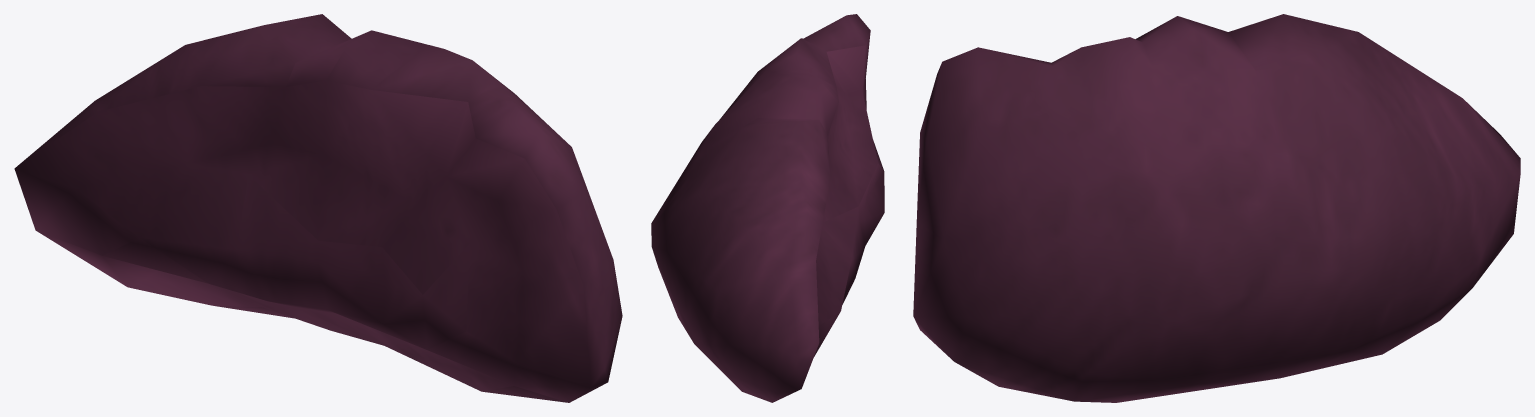
The model's file is TCA_Spleen.fbx.
3 renders of one model, left to right at view 1: azimuth 30°, elevation 25°; view 2: azimuth 150°, elevation 25°; view 3: azimuth 270°, elevation 25°, orthographic. The views are drawn at different scales.
Parts seen in each view (by area): view 1: Spleen; view 2: Spleen; view 3: Spleen.
Part boxes in pixels (left/top/right/bottom): Spleen: left=14, top=14, right=622, bottom=402; Spleen: left=651, top=14, right=884, bottom=402; Spleen: left=913, top=14, right=1520, bottom=402.
Bounding box in the file's own units: 0.1128 × 0.1064 × 0.1738.
